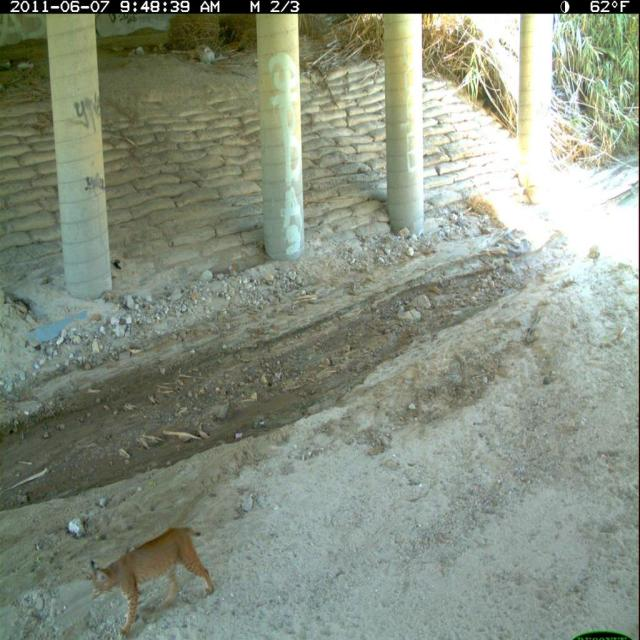bobcat: (87, 522, 217, 640)
